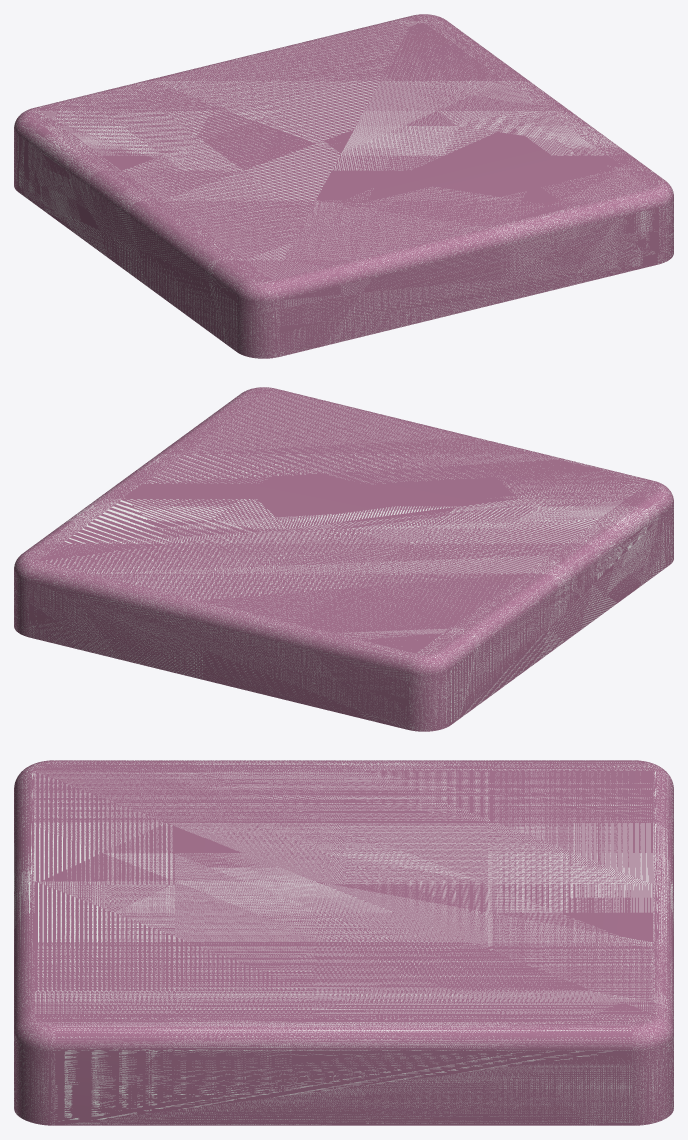
The model's file is original-6.obj.
The picture shows the model from 3 angles, top to bottom: view 1: azimuth 30°, elevation 25°; view 2: azimuth 150°, elevation 25°; view 3: azimuth 270°, elevation 25°; orthographic projection. The views are drawn at different scales.
Parts seen in each view (by area): view 1: Component_2_2/Component_2/mesh1/mesh1-geometry#mesh1-geometry; view 2: Component_2_2/Component_2/mesh1/mesh1-geometry#mesh1-geometry; view 3: Component_2_2/Component_2/mesh1/mesh1-geometry#mesh1-geometry.
Boxes of the visible parts, box(x1,y1,x2,y2) form: Component_2_2/Component_2/mesh1/mesh1-geometry#mesh1-geometry: box(14, 14, 673, 358); Component_2_2/Component_2/mesh1/mesh1-geometry#mesh1-geometry: box(14, 387, 673, 731); Component_2_2/Component_2/mesh1/mesh1-geometry#mesh1-geometry: box(14, 760, 673, 1125).
Size of the model in its own units: 0.0677 by 0.0106 by 0.0677.
